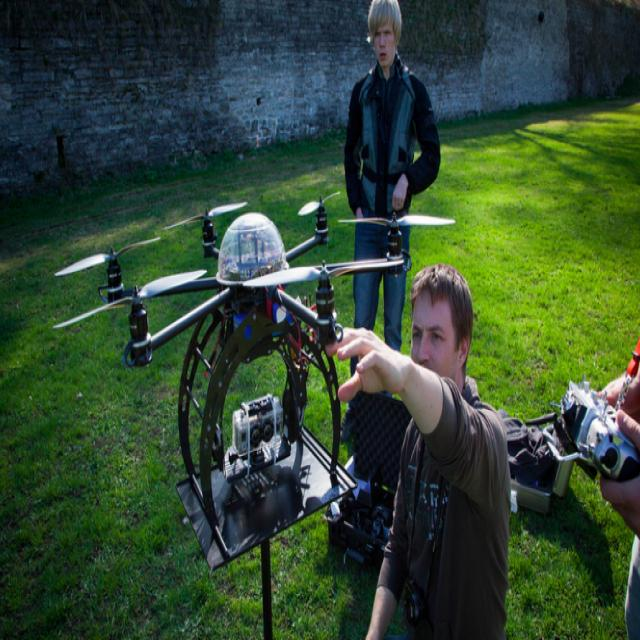drone: (49, 183, 458, 563)
